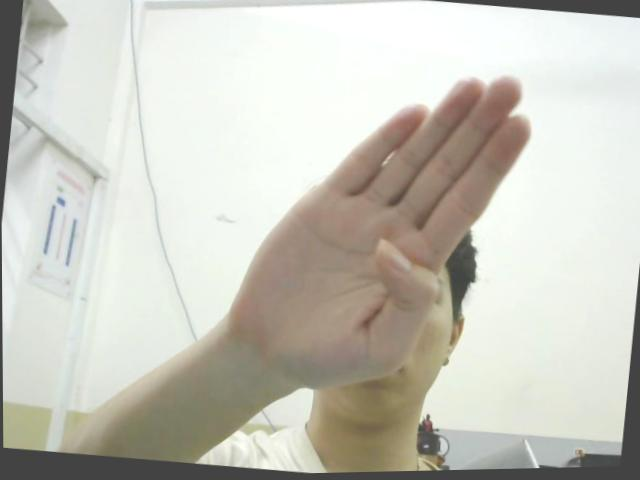B: (220, 48, 538, 411)
